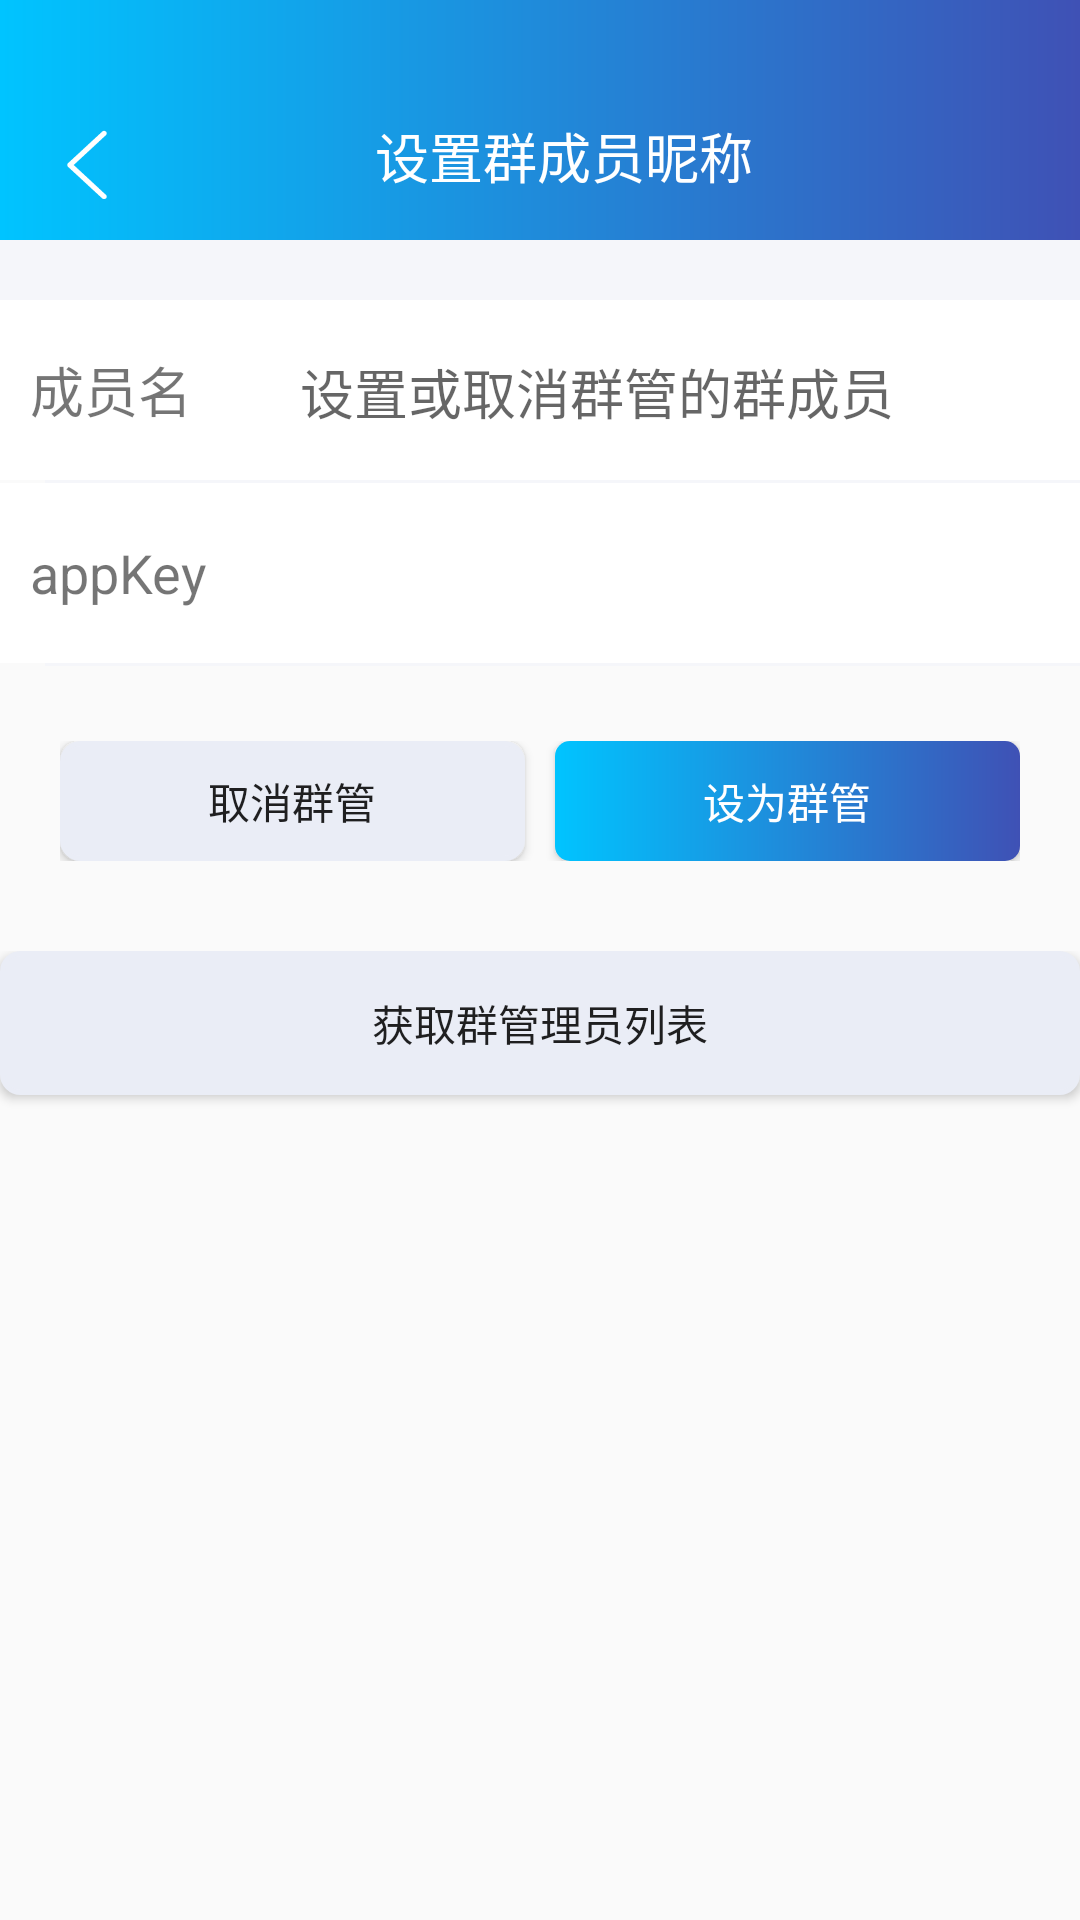

Icons on this 1080w x 1920h Android screen, each with its box as (x1, y1, x2, y2):
back: (67, 130, 107, 199)
